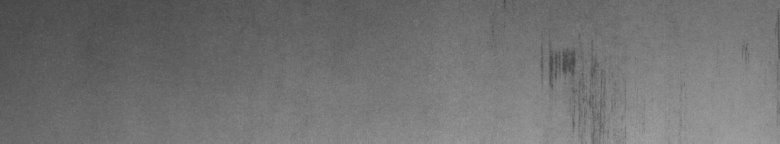ka: (536, 42, 608, 136)
